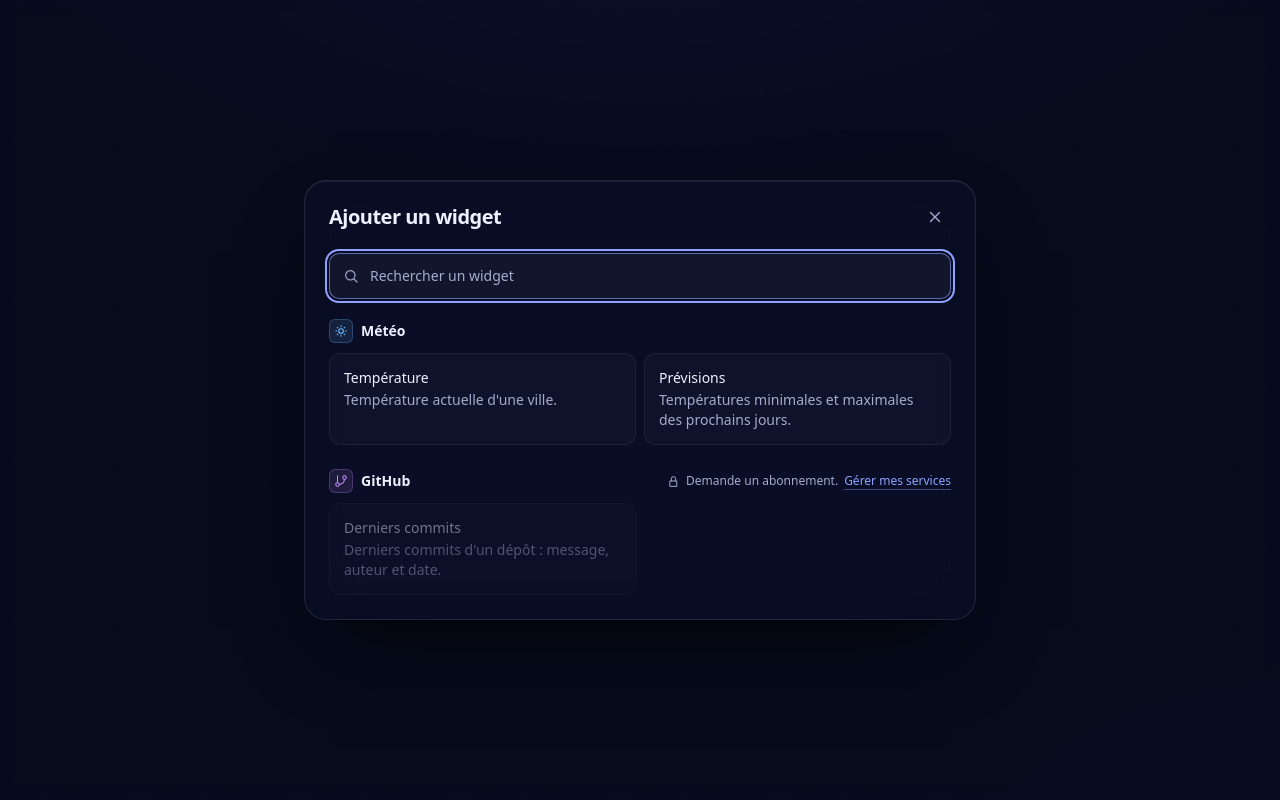
Scenario: WidgetFormModal — ajout › refuse un formulaire incomplet ou hors bornes
The image size is (1280, 800).
Step 1. Click the button "Prévisions" → {"x": 798, "y": 399}, box [644,353,951,445]
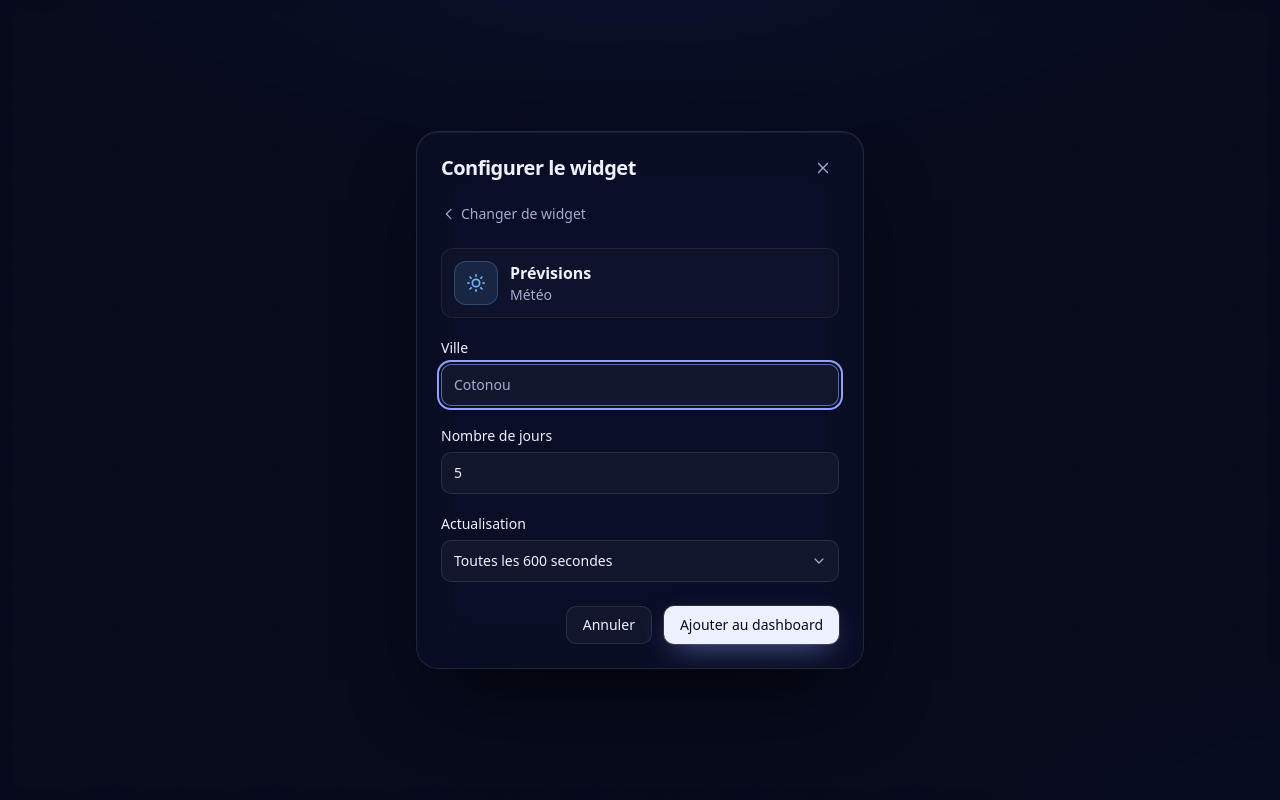
Step 2. Click the button "Ajouter au dashboard" → {"x": 751, "y": 625}, box [664,606,839,644]
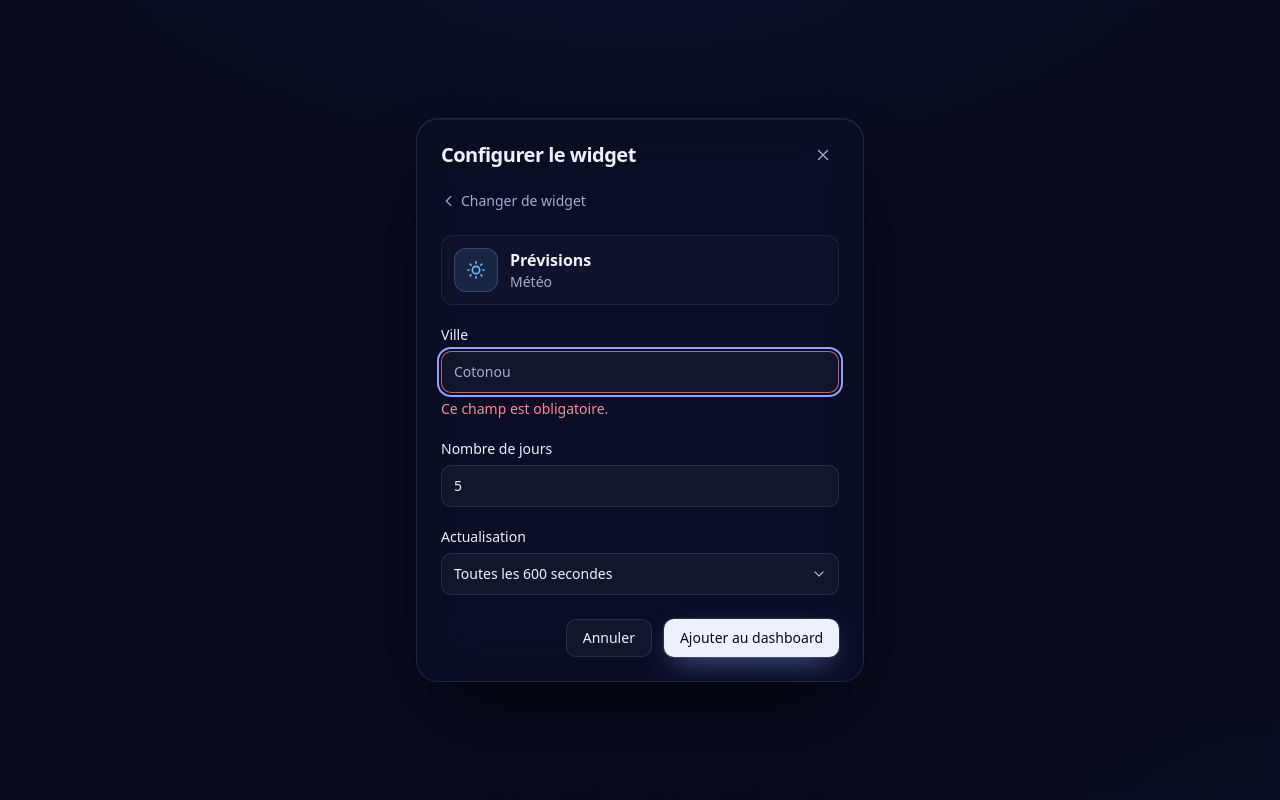
Expected: the text "Ce champ est obligatoire." is shown, [441,399,608,418]
Step 3. Type "Paris" into the field labelled "Ville" → {"x": 640, "y": 372}, box [441,351,839,393]
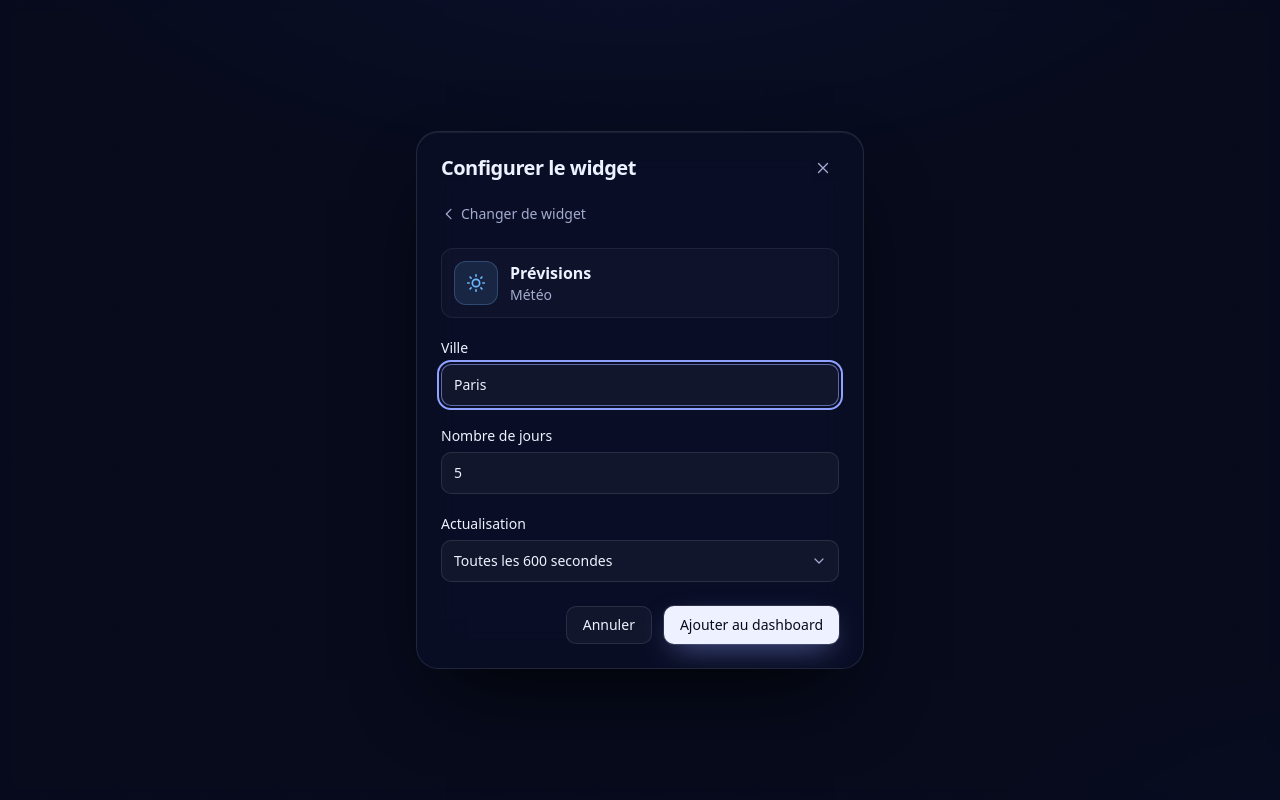
Step 4. Replace the text in the number field labelled "Nombre de jours" with "40" → {"x": 640, "y": 473}, box [441,452,839,494]
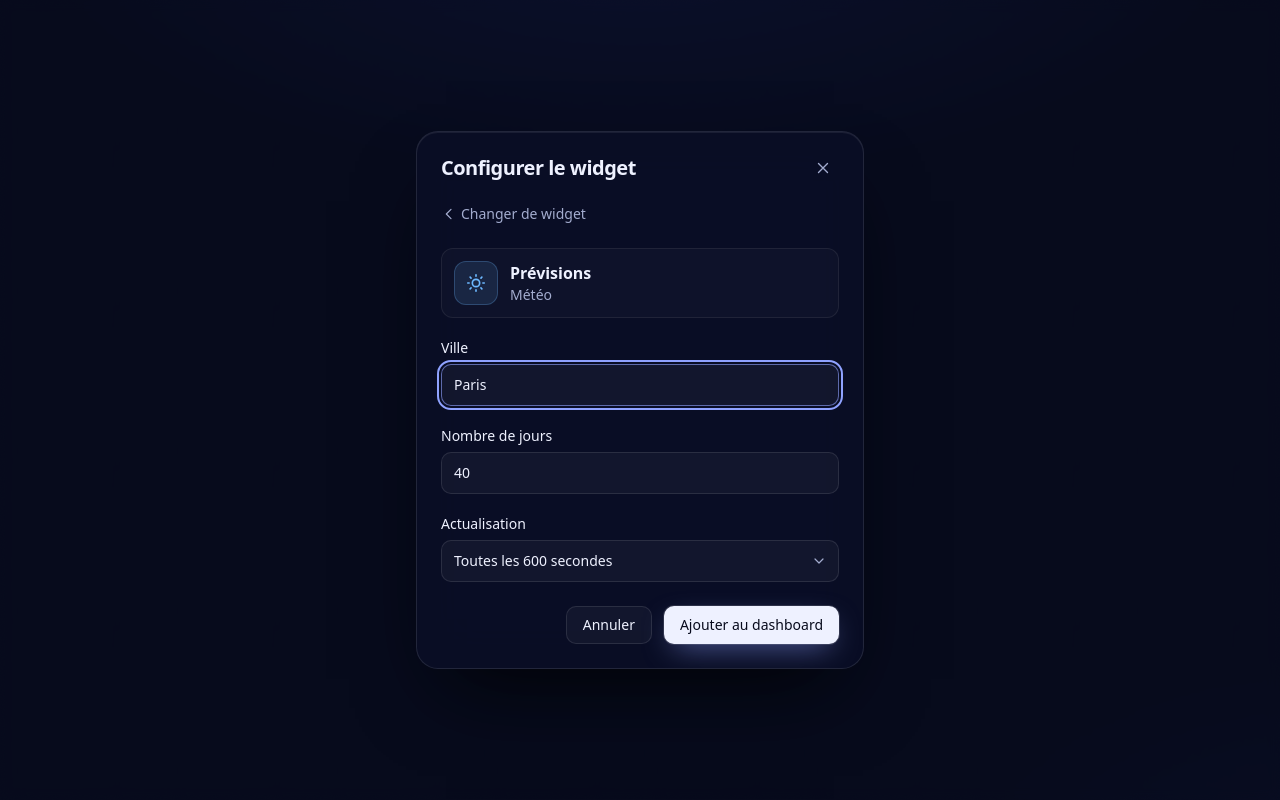
Step 5. Click the button "Ajouter au dashboard" → {"x": 751, "y": 625}, box [664,606,839,644]
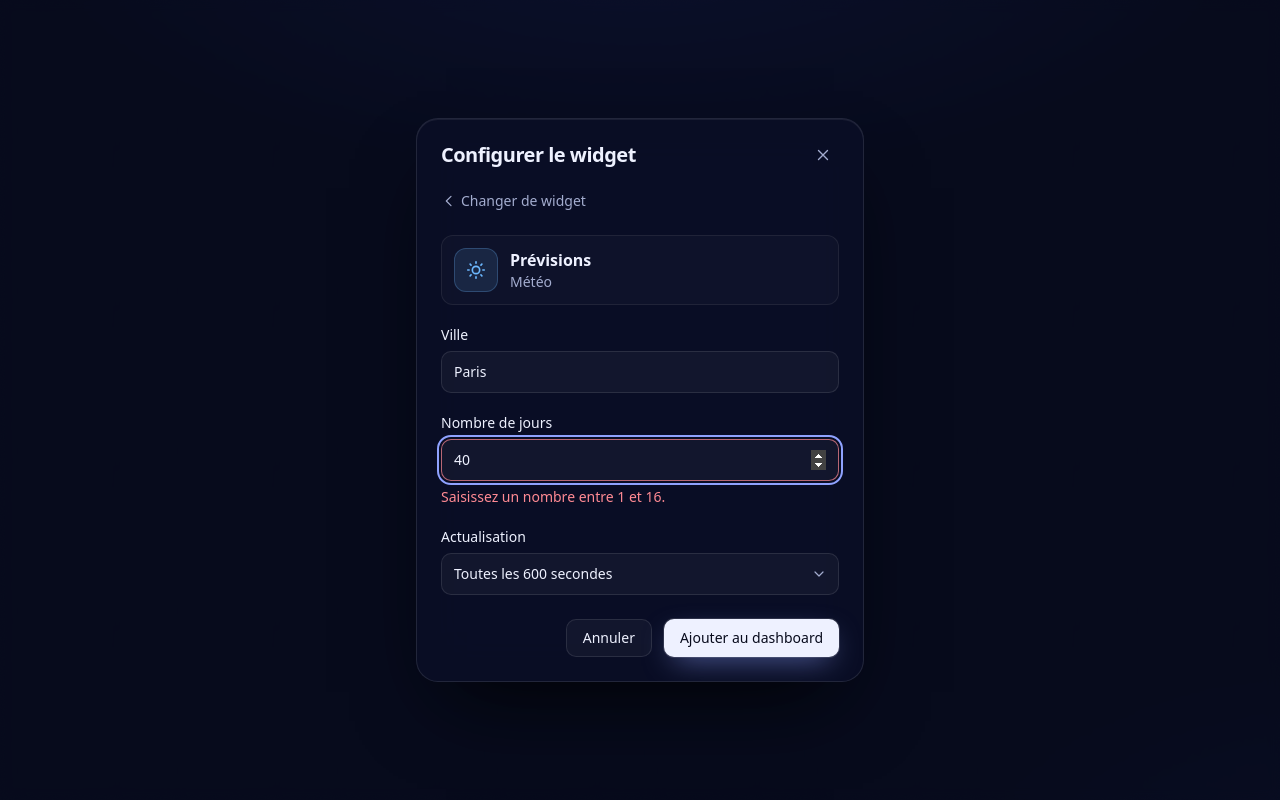
Expected: the text "Saisissez un nombre entre 1 et 16." is shown, [441,487,665,506]
